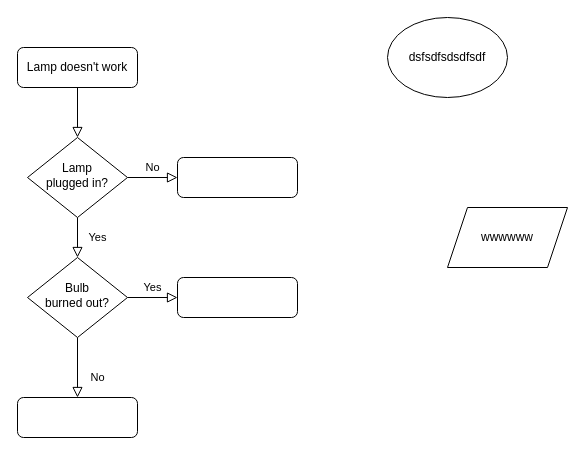
Image size: 585x455. Some labels were removed from this diagram. Each missing label, with the box of its shape:
Plug in lamp: (176, 156, 298, 198)
Repair Lamp: (16, 396, 138, 438)
Replace Bulb: (176, 276, 298, 318)
